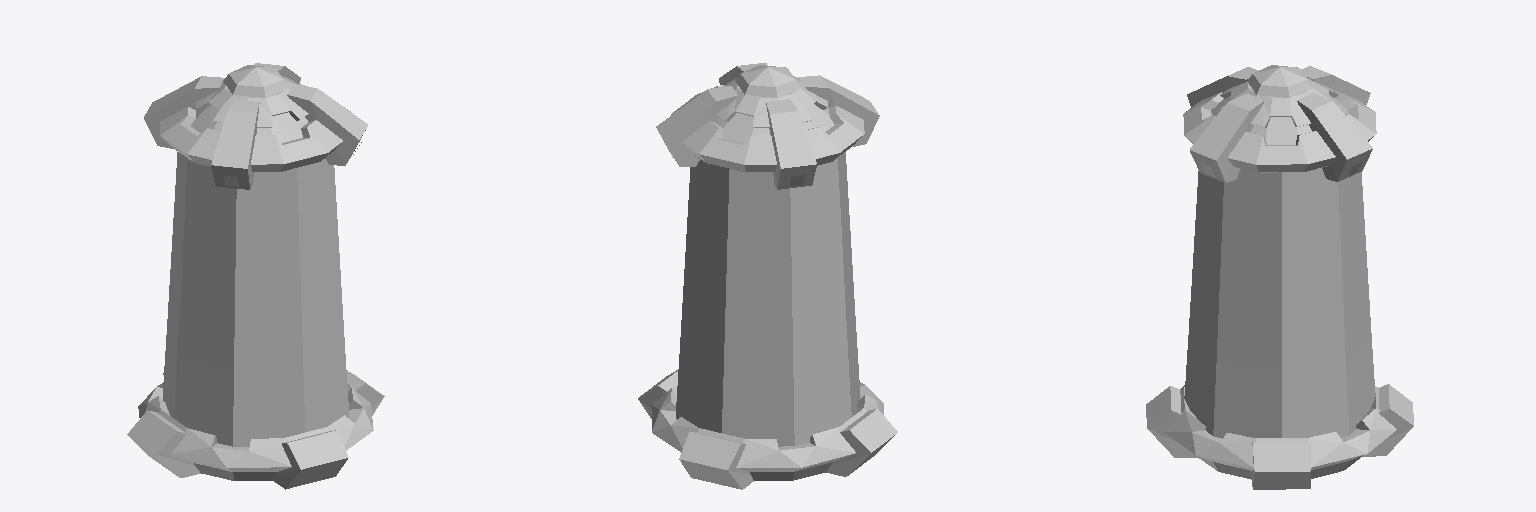
File: Dr. Light.obj
3 views of the same model, side by side, from view 1: azimuth 30°, elevation 25°; view 2: azimuth 150°, elevation 25°; view 3: azimuth 270°, elevation 25° (orthographic).
Visible parts, largest first — view 1: model1330_materia.005, model1330_materia.007; view 2: model1330_materia.005, model1330_materia.007; view 3: model1330_materia.005, model1330_materia.007.
Boxes of the visible parts, x1=… form: model1330_materia.005: x1=163, y1=152, x2=348, y2=446; model1330_materia.007: x1=127, y1=63, x2=384, y2=489; model1330_materia.005: x1=676, y1=152, x2=860, y2=446; model1330_materia.007: x1=638, y1=63, x2=897, y2=489; model1330_materia.005: x1=1184, y1=168, x2=1375, y2=438; model1330_materia.007: x1=1146, y1=65, x2=1413, y2=489.
Size of the model in its own units: 2.44 by 3.79 by 2.44.